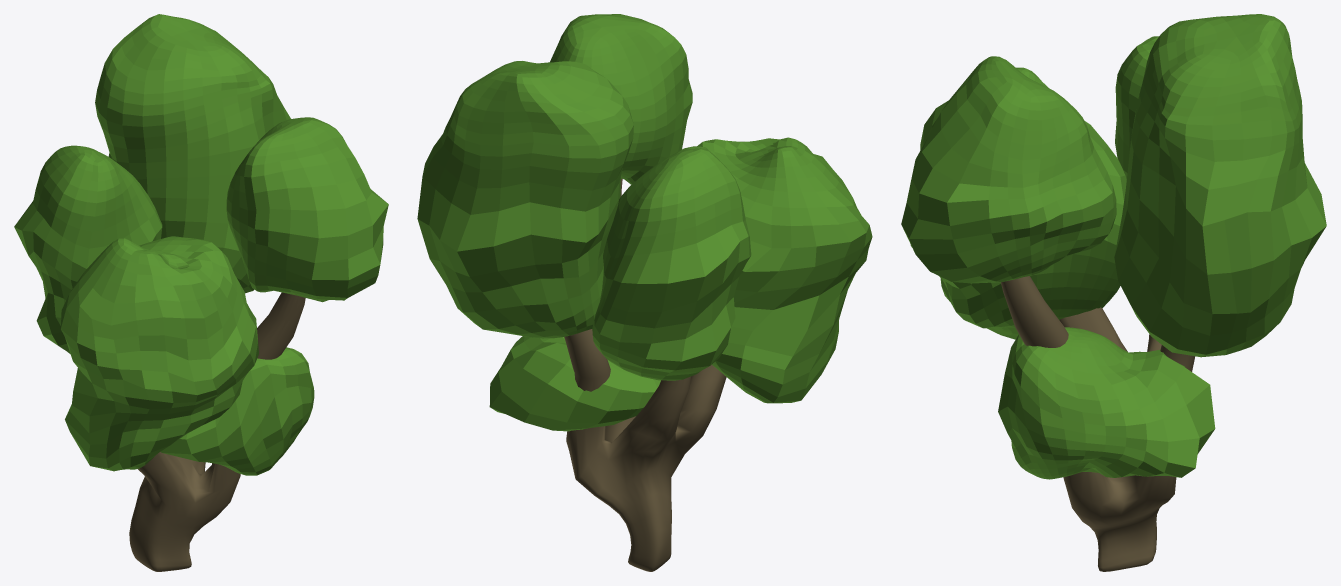
The model's file is DecorativeShrubwithLeaves1.fbx.
The picture shows the model from 3 angles, left to right: view 1: azimuth 30°, elevation 25°; view 2: azimuth 150°, elevation 25°; view 3: azimuth 270°, elevation 25°; orthographic projection. The views are drawn at different scales.
Parts seen in each view (by area): view 1: DecorativeshrubWithLeaves1; view 2: DecorativeshrubWithLeaves1; view 3: DecorativeshrubWithLeaves1.
Boxes of the visible parts, x1,y1,x2,y2 form: DecorativeshrubWithLeaves1: (14,14,388,571); DecorativeshrubWithLeaves1: (417,14,872,571); DecorativeshrubWithLeaves1: (901,14,1326,571).
Size of the model in its own units: 94.12 by 139 by 92.42.
